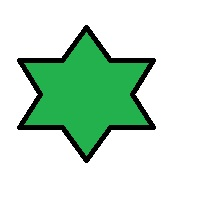star: (16, 24, 156, 163)
